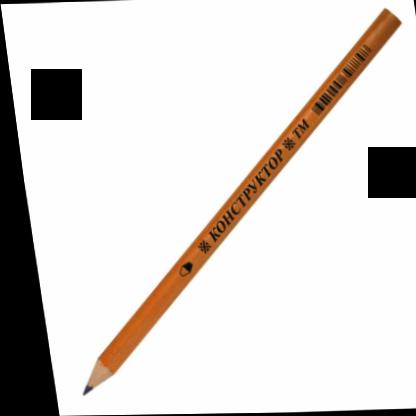pencil: (69, 4, 409, 401)
